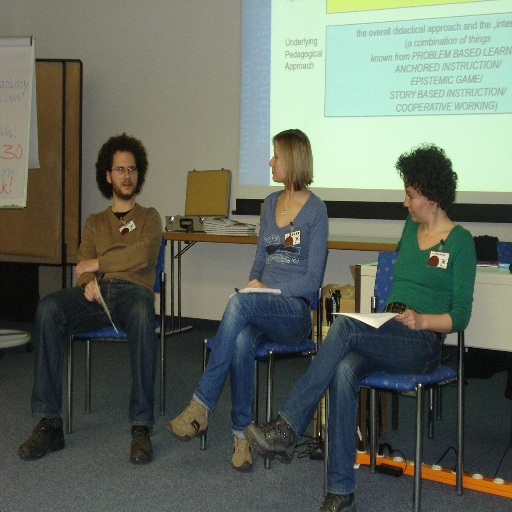hand: (394, 306, 421, 334), (82, 276, 104, 307), (74, 258, 96, 279), (245, 278, 265, 287)
